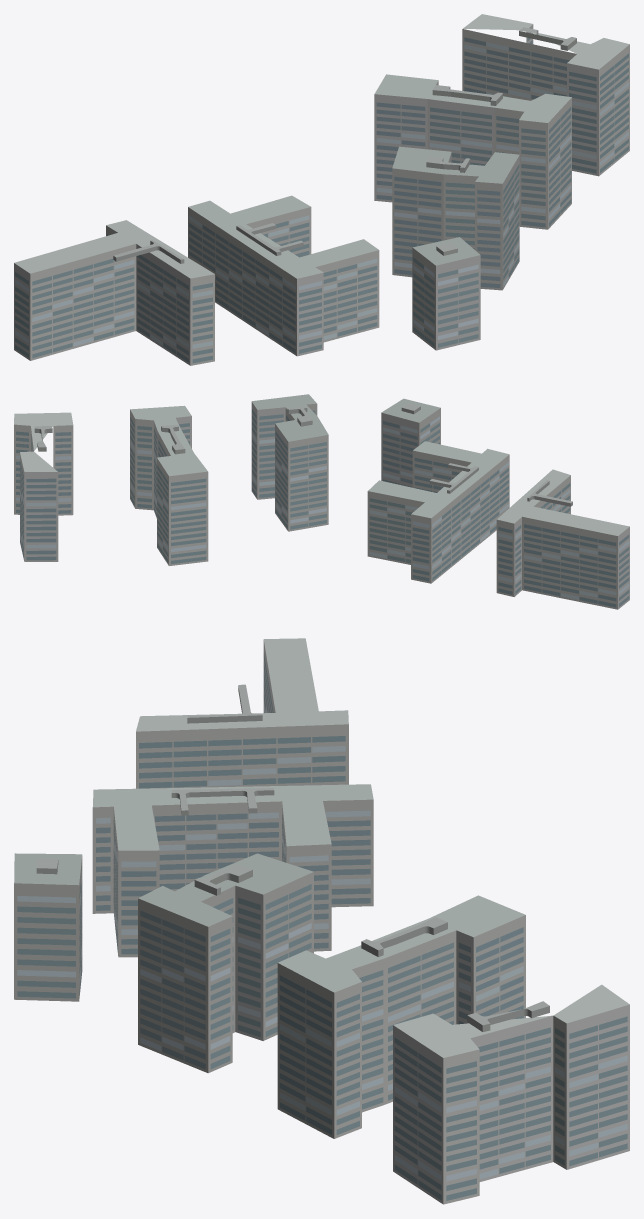
The model's file is apt-a12220005.glb.
3 views of the same model, one above another, from view 1: azimuth 30°, elevation 25°; view 2: azimuth 150°, elevation 25°; view 3: azimuth 270°, elevation 25° (orthographic). The views are drawn at different scales.
Visible parts, largest first — view 1: apt-a12220005; view 2: apt-a12220005; view 3: apt-a12220005.
Boxes of the visible parts, bbox=[...] form: apt-a12220005: bbox=[14, 14, 629, 365]; apt-a12220005: bbox=[14, 394, 629, 609]; apt-a12220005: bbox=[14, 638, 629, 1204].
Bounding box in the file's own units: 275 × 44 × 160.
